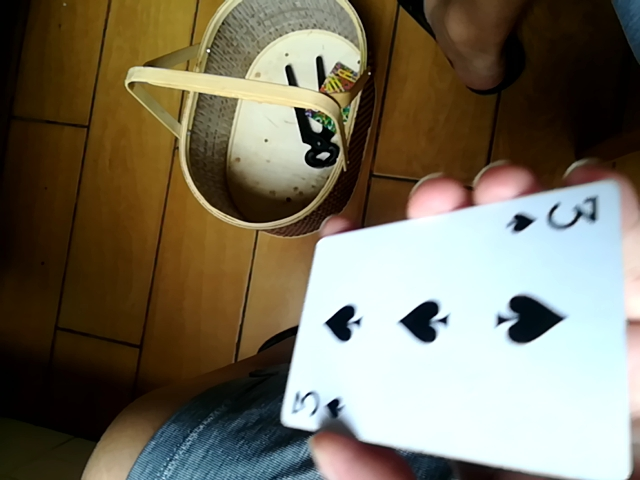ht 3: (283, 174, 632, 478)
